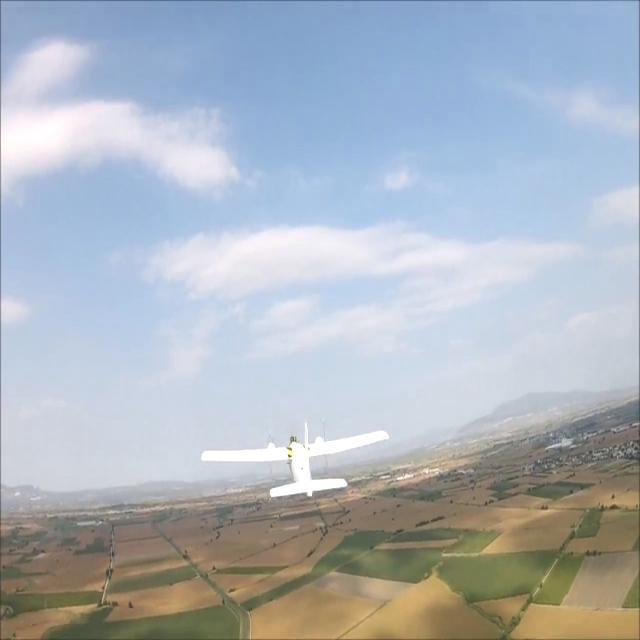iha: (197, 428, 393, 476)
